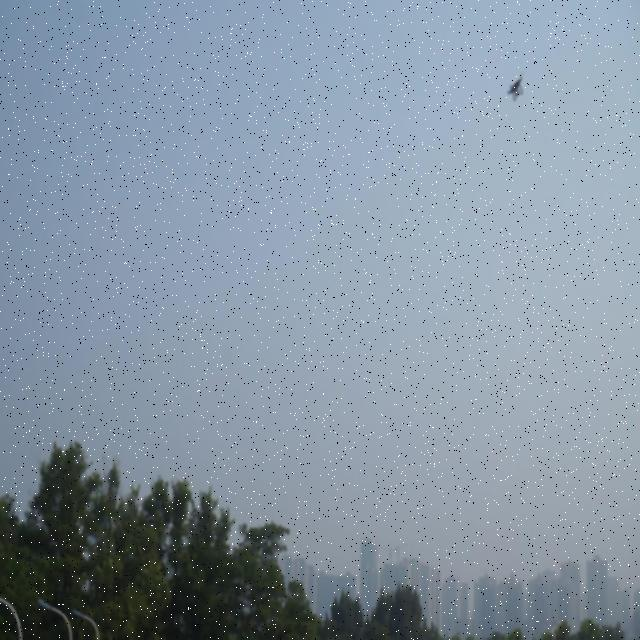UAV: (507, 72, 524, 102)
